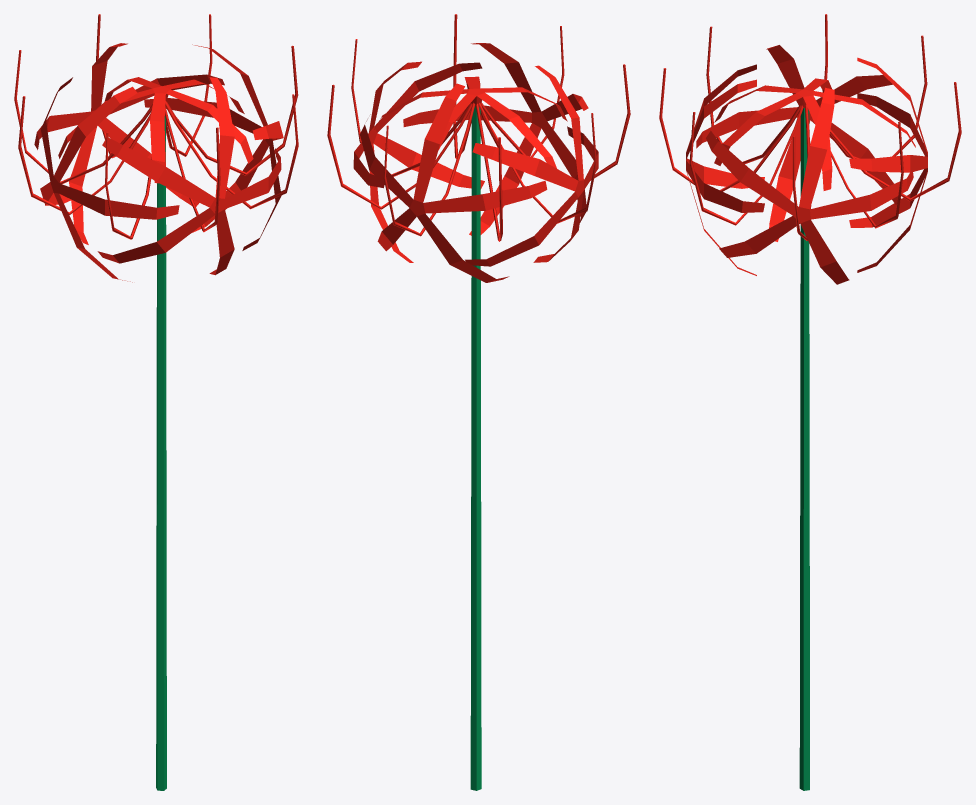
File: Red Spider Lily 1 Batang.fbx
The picture shows the model from 3 angles, left to right: view 1: azimuth 30°, elevation 25°; view 2: azimuth 150°, elevation 25°; view 3: azimuth 270°, elevation 25°; orthographic projection.
Visible parts, largest first — view 1: Red Spider Lily; view 2: Red Spider Lily; view 3: Red Spider Lily.
Part boxes in pixels (x1,y1,x2,y2): Red Spider Lily: (14,14,298,790); Red Spider Lily: (327,14,630,790); Red Spider Lily: (659,14,961,790).
Bounding box in the file's own units: 38.64 × 102 × 38.64.
